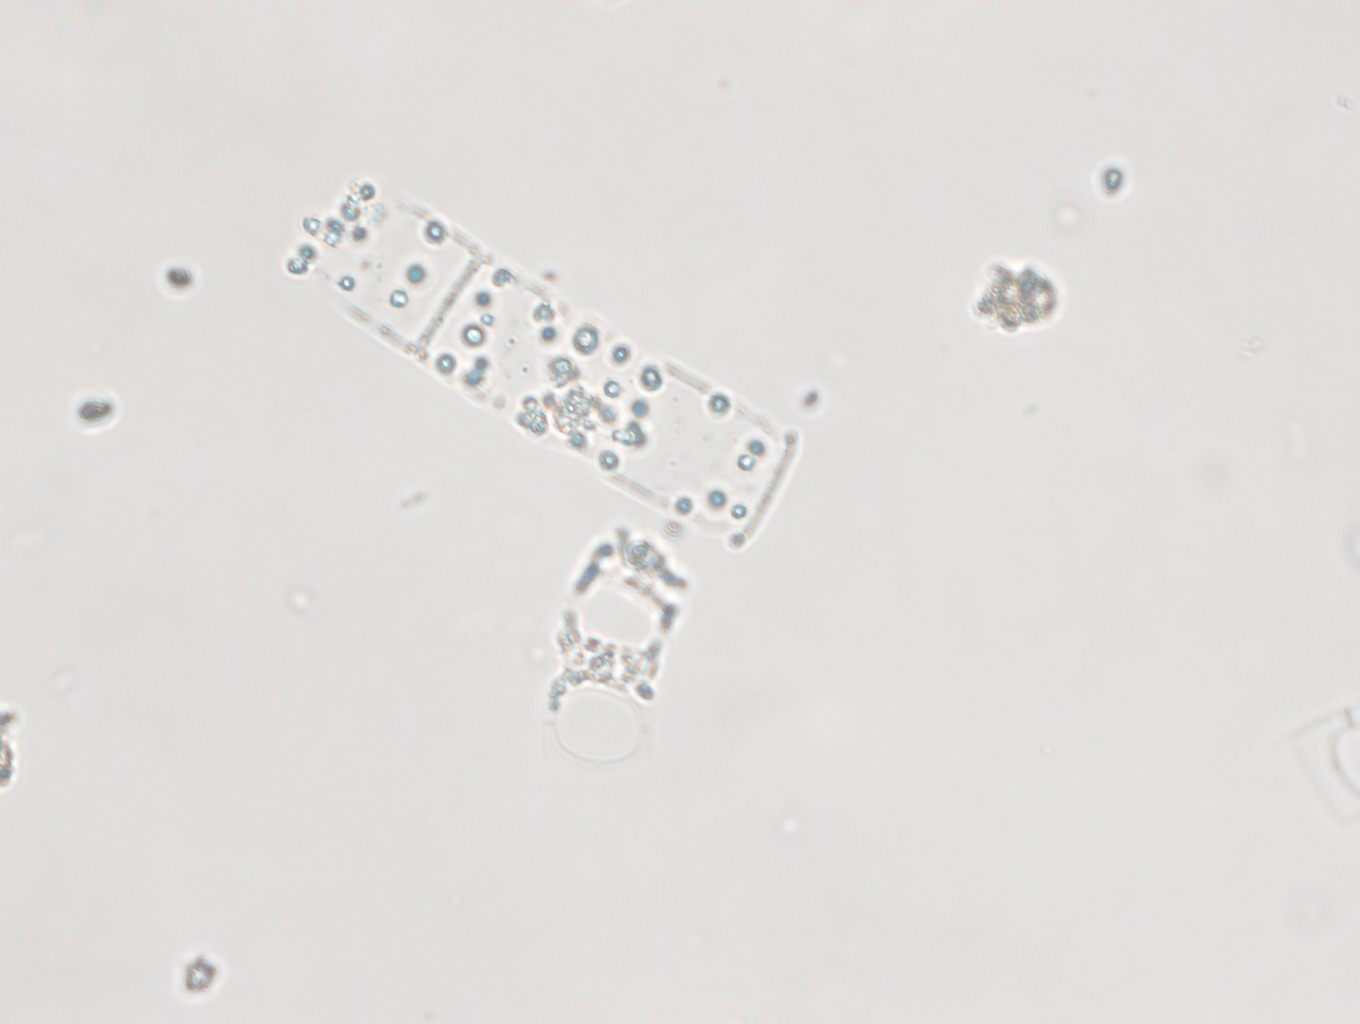eucampia: (536, 527, 690, 778)
guinardia flaccida: (324, 176, 798, 545)
